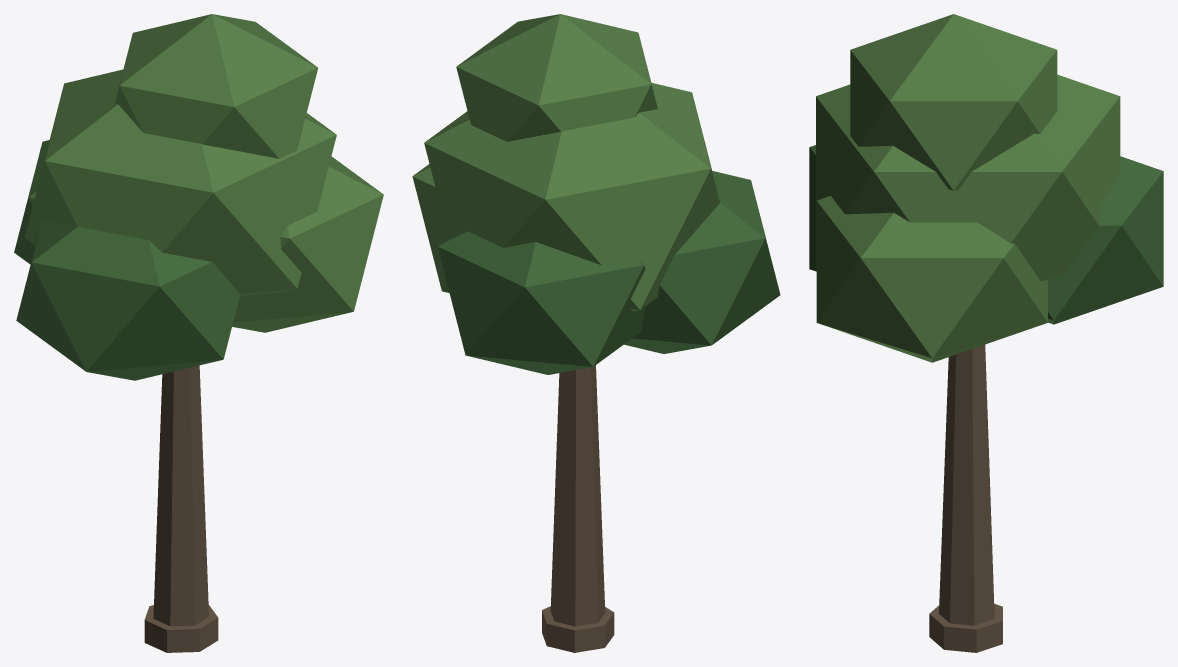
File: tree.glb
3 views of the same model, side by side, from view 1: azimuth 30°, elevation 25°; view 2: azimuth 150°, elevation 25°; view 3: azimuth 270°, elevation 25° (orthographic). The views are drawn at different scales.
Visible parts, largest first — view 1: tree; view 2: tree; view 3: tree.
Part boxes in pixels (x1,y1,x2,y2): tree: (14,14,383,652); tree: (412,14,780,652); tree: (809,14,1163,652).
Size of the model in its own units: 2.8 by 4.9 by 2.47.
